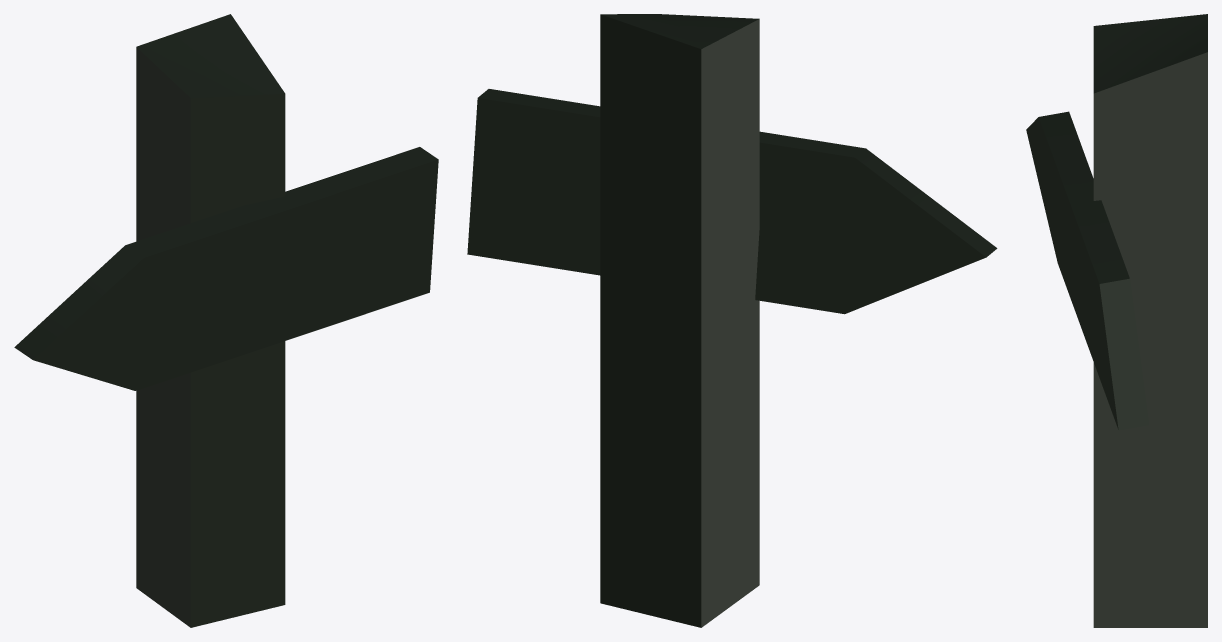
Rendered from SF_Prop_SignPost_03.glb.
The picture shows the model from 3 angles, left to right: view 1: azimuth 30°, elevation 25°; view 2: azimuth 150°, elevation 25°; view 3: azimuth 270°, elevation 25°; orthographic projection. The views are drawn at different scales.
Parts seen in each view (by area): view 1: SF_Prop_SignPost_03; view 2: SF_Prop_SignPost_03; view 3: SF_Prop_SignPost_03.
Boxes of the visible parts, <box> form: SF_Prop_SignPost_03: <box>14,14,438,627</box>; SF_Prop_SignPost_03: <box>467,14,997,627</box>; SF_Prop_SignPost_03: <box>1026,14,1207,627</box>.
Size of the model in its own units: 0.0127 by 0.015 by 0.00429.
1 material, 1 textured.
